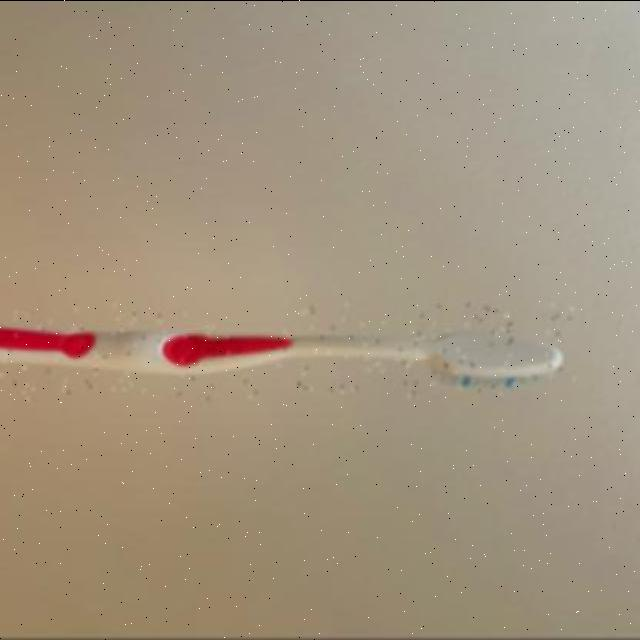toothbrush: (1, 304, 576, 400)
